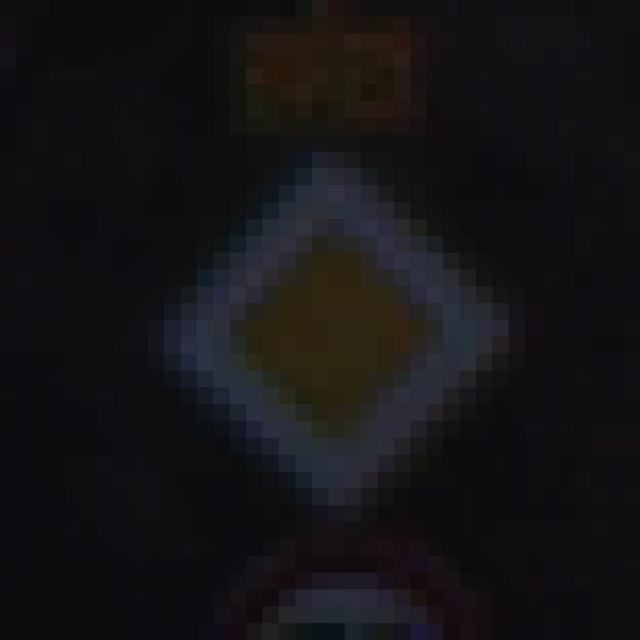Main Road: (99, 102, 559, 557)
